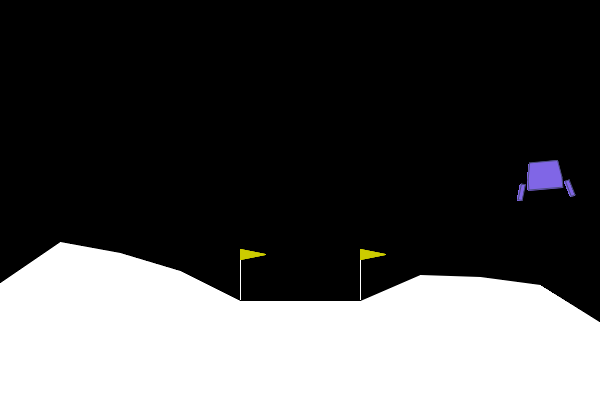lander: (513, 157, 576, 202)
